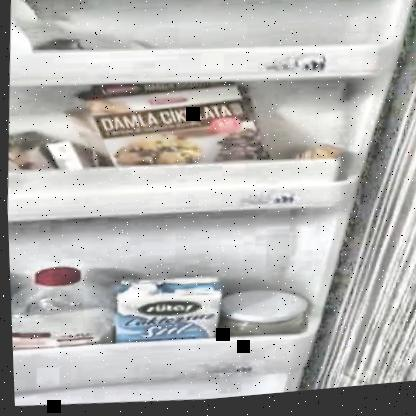milk: (110, 271, 219, 346)
